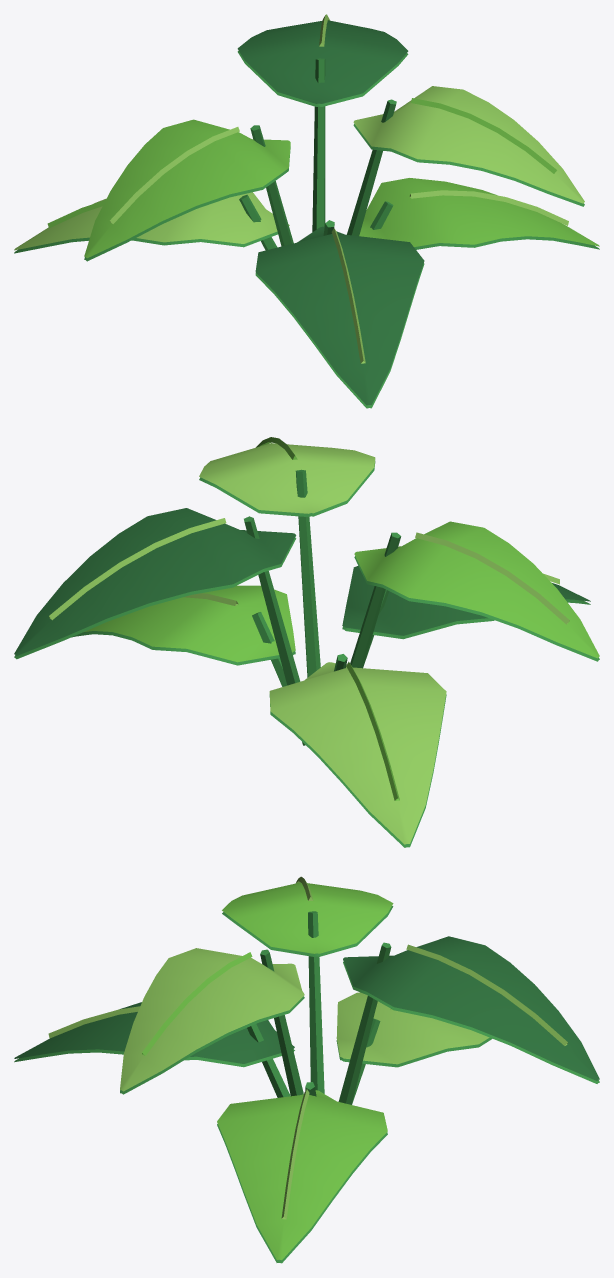
The model's file is HojasGrandes.fbx.
3 renders of one model, top to bottom at view 1: azimuth 30°, elevation 25°; view 2: azimuth 150°, elevation 25°; view 3: azimuth 270°, elevation 25°, orthographic. The views are drawn at different scales.
Parts seen in each view (by area): view 1: HojasGrandes; view 2: HojasGrandes; view 3: HojasGrandes.
Part boxes in pixels (x1,y1,x2,y2): HojasGrandes: [14, 14, 599, 408]; HojasGrandes: [14, 437, 599, 847]; HojasGrandes: [14, 876, 599, 1263].
Size of the model in its own units: 6.83 by 2.97 by 6.77.
1 material, 1 textured.
